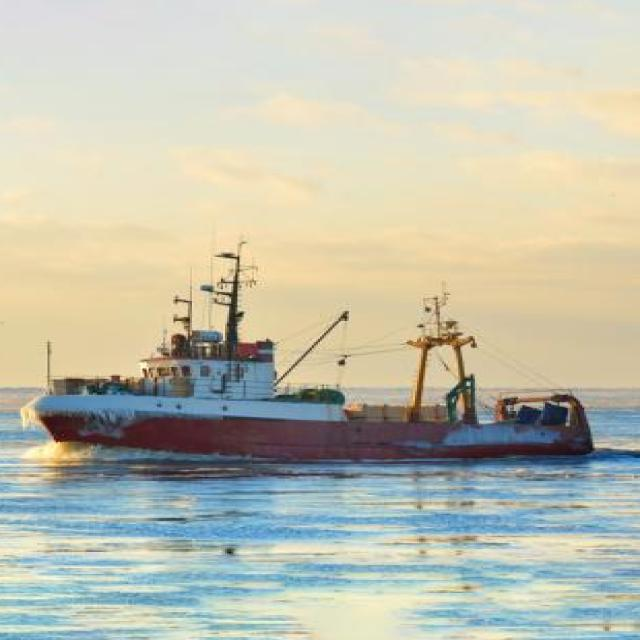boat: (24, 243, 616, 511)
